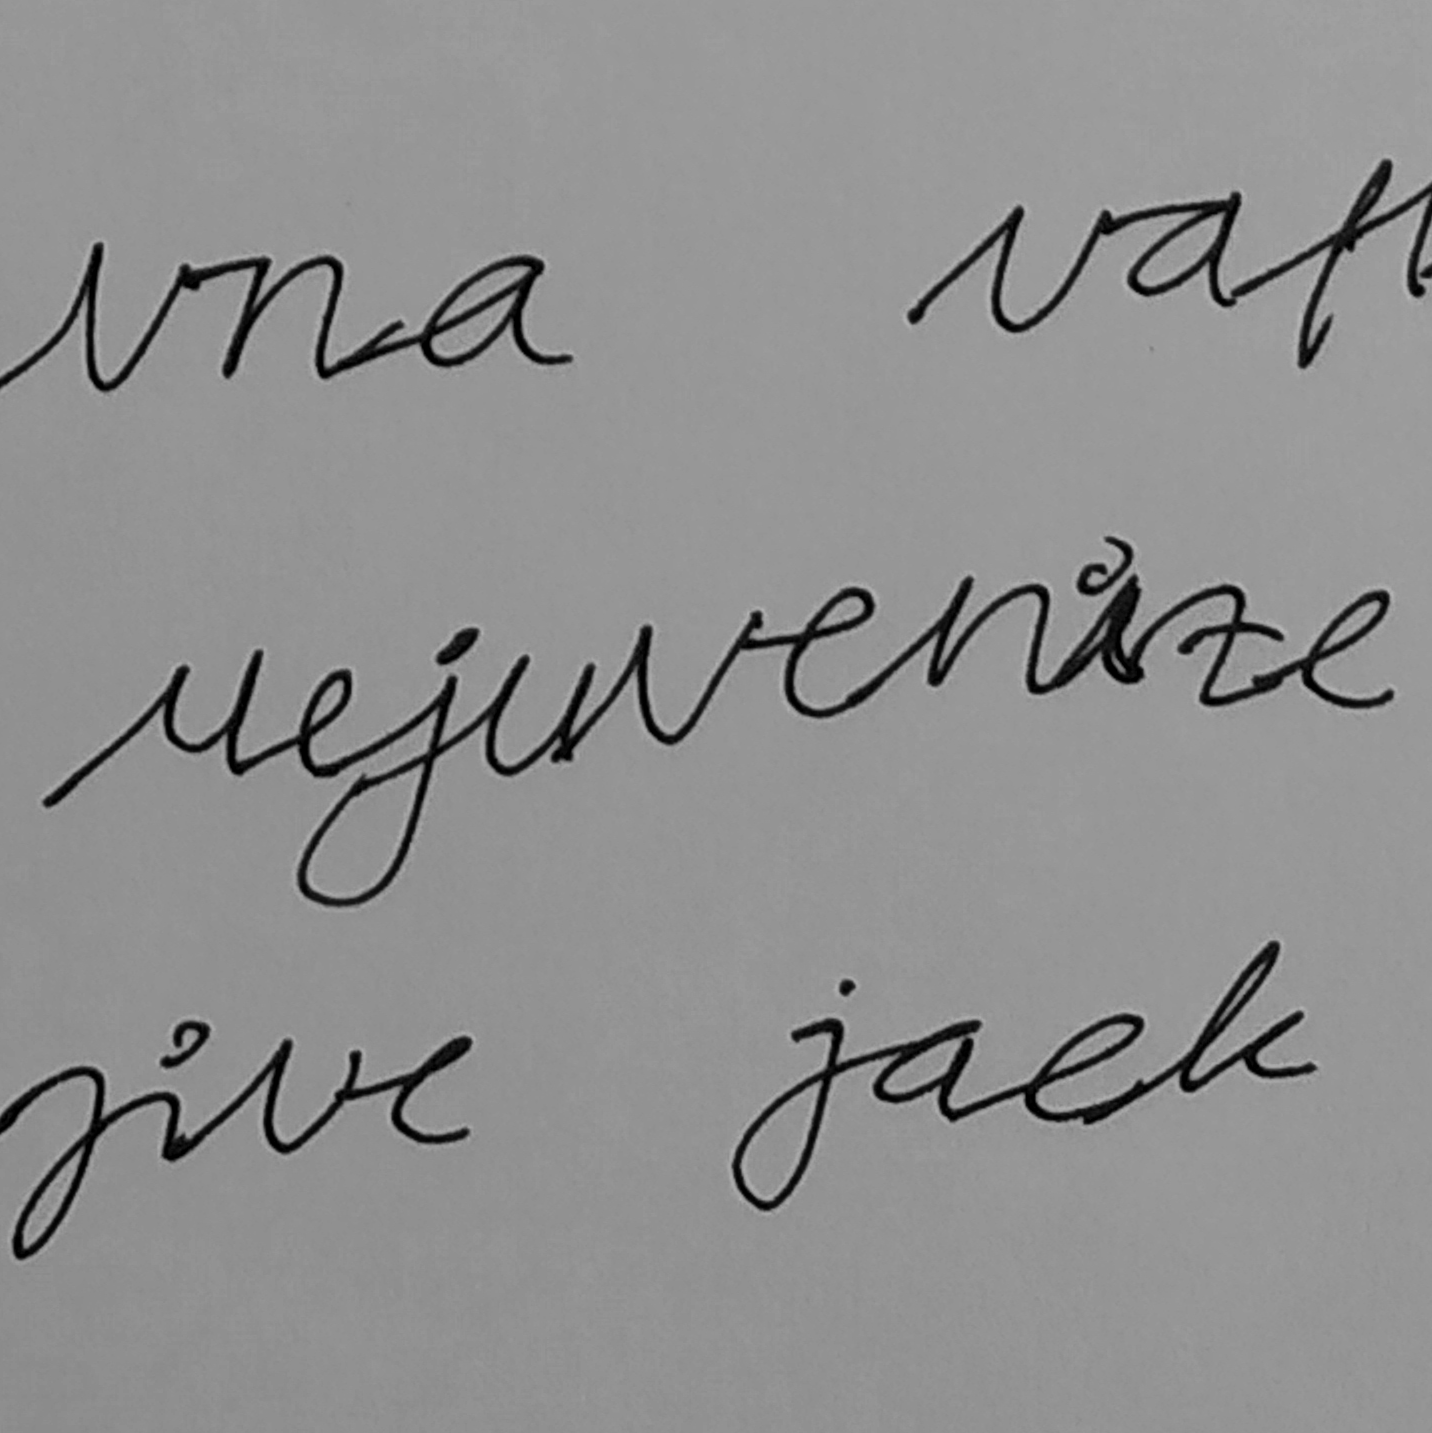e: (778, 581, 888, 728), (1297, 583, 1401, 716), (286, 663, 367, 779)
i: (1071, 530, 1151, 691)
j: (292, 624, 481, 913)
n: (919, 570, 1056, 700)
r: (110, 646, 268, 780)
u: (484, 645, 601, 784)
v: (623, 604, 768, 753)
z: (1174, 578, 1288, 709)
